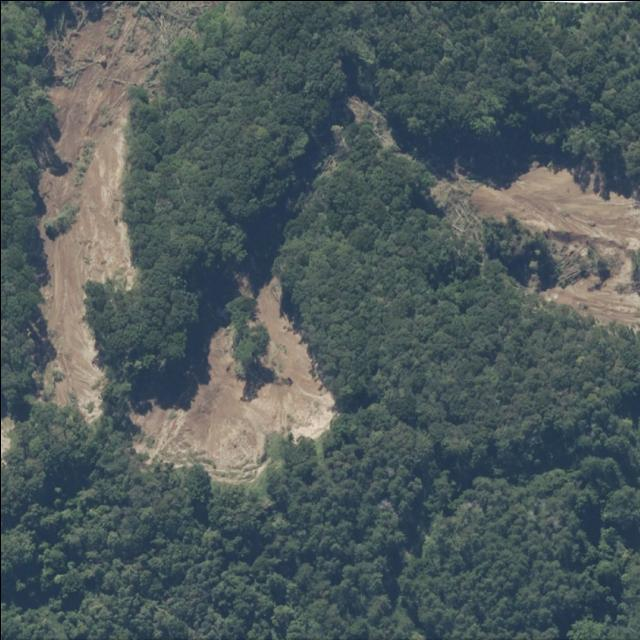landslide: (36, 0, 209, 422), (129, 276, 334, 483), (461, 166, 640, 326)
